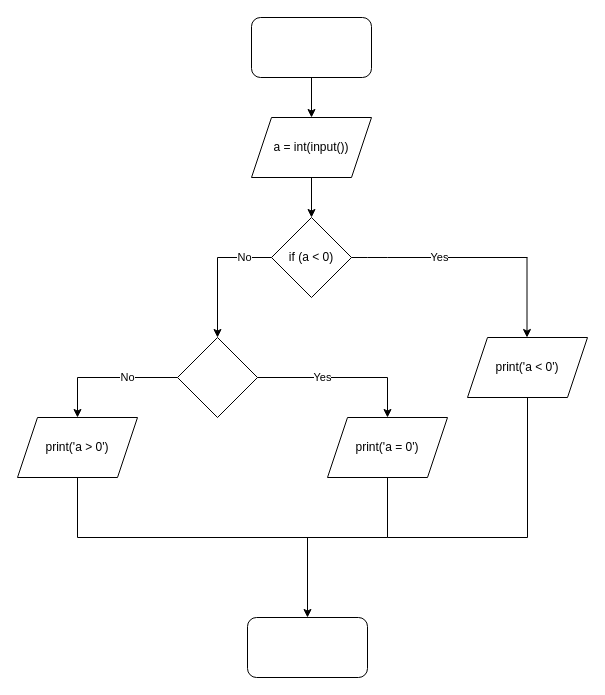
Image size: 605x695. Some labels were removed from this diagram. Each missing label, with the box of its shape:
elif (a == 0): (176, 336, 258, 418)
End: (246, 616, 368, 678)
Start: (250, 16, 372, 78)
